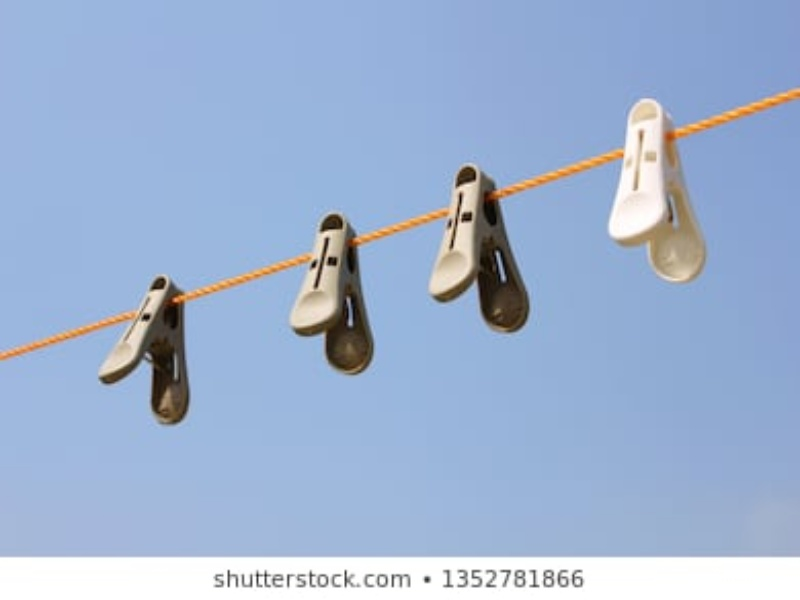plastic-peg: (608, 98, 712, 286), (423, 163, 536, 334), (95, 273, 190, 428), (288, 211, 377, 376)
